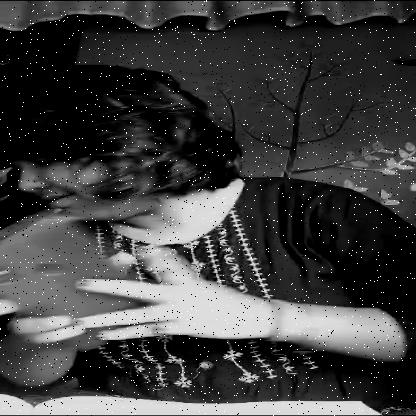Distracted: (2, 94, 196, 220)
